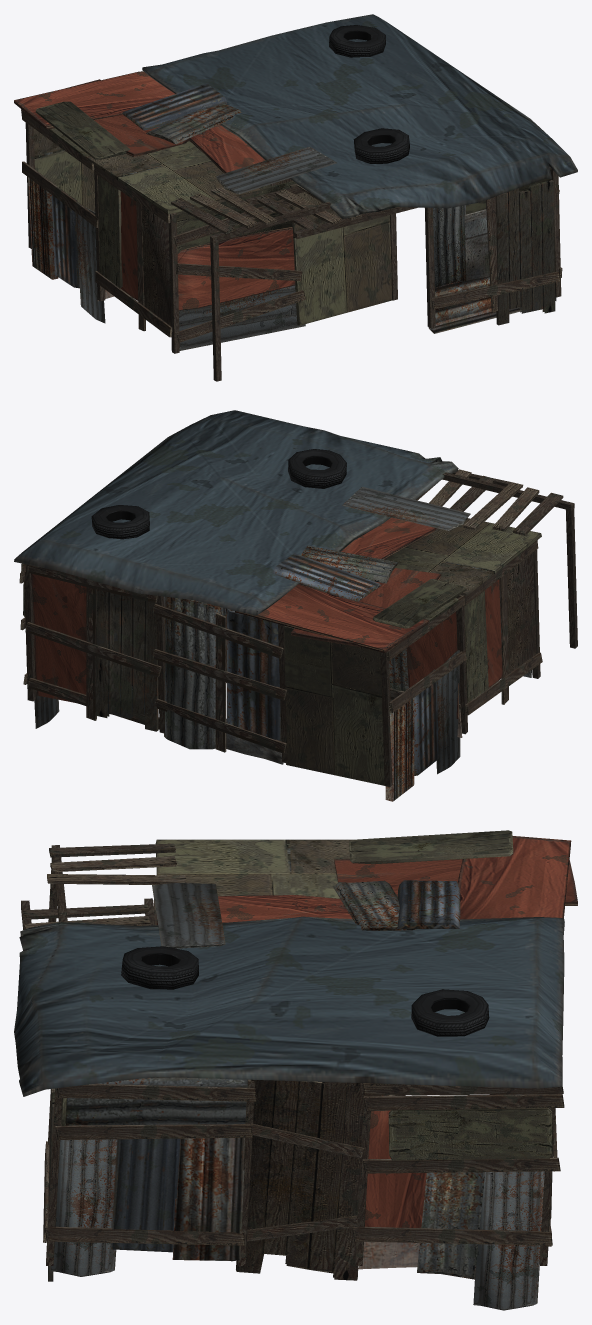
File: number2.fbx
3 renders of one model, top to bottom at view 1: azimuth 30°, elevation 25°; view 2: azimuth 150°, elevation 25°; view 3: azimuth 270°, elevation 25°, orthographic. The views are drawn at different scales.
Visible parts, largest first — view 1: Roof, Walls; view 2: Roof, Walls; view 3: Roof, Walls.
Boxes of the visible parts, x1,y1,x2,y2 form: Roof: (14, 14, 577, 243); Walls: (21, 109, 562, 381); Roof: (14, 410, 574, 652); Walls: (19, 509, 577, 801); Roof: (14, 830, 577, 1096); Walls: (43, 858, 564, 1310).
Bounding box in the file's own units: 2.96 × 1.54 × 2.89.
